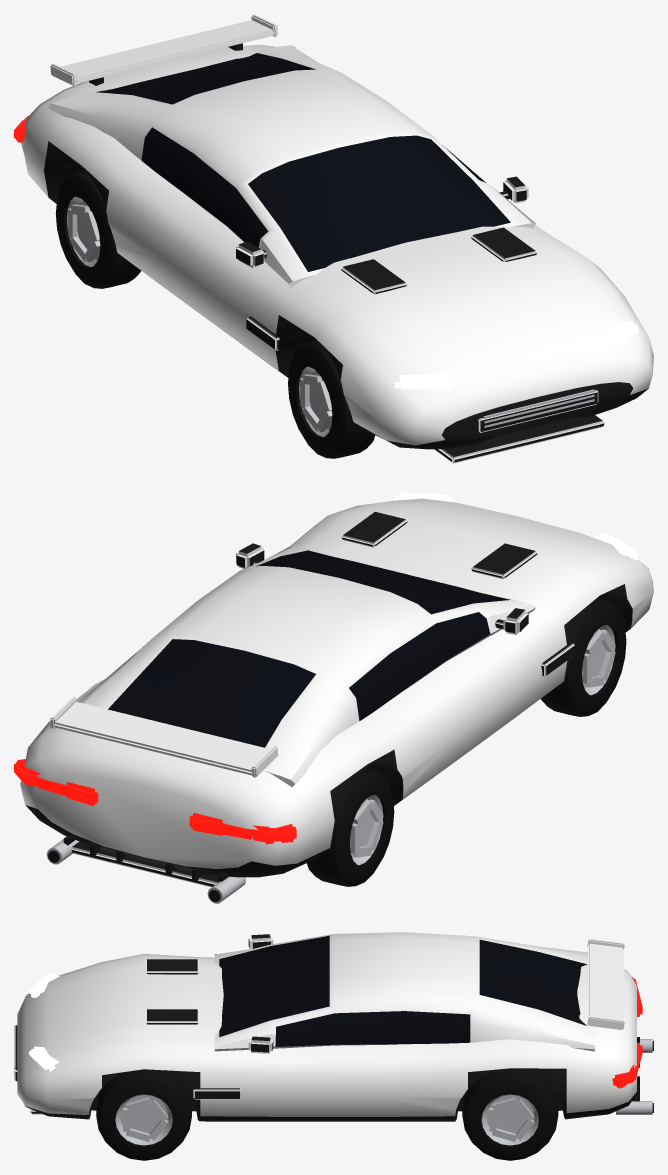
The model's file is car_coupe.glb.
3 renders of one model, top to bottom at view 1: azimuth 30°, elevation 25°; view 2: azimuth 150°, elevation 25°; view 3: azimuth 270°, elevation 25°, orthographic. The views are drawn at different scales.
Parts seen in each view (by area): view 1: Body, Spin (×2), Headlights; view 2: Body, Spin (×2), Taillights, Headlights; view 3: Body, Spin (×2), Headlights, Taillights.
Part boxes in pixels (bbox=[...]): Body: bbox=[21, 14, 653, 463]; Spin (×2): bbox=[55, 170, 375, 458]; Headlights: bbox=[394, 320, 638, 391]; Body: bbox=[20, 498, 653, 903]; Spin (×2): bbox=[307, 598, 626, 886]; Taillights: bbox=[14, 759, 296, 844]; Headlights: bbox=[394, 492, 638, 560]; Body: bbox=[14, 932, 653, 1121]; Spin (×2): bbox=[96, 1070, 558, 1160]; Headlights: bbox=[29, 972, 59, 1071]; Taillights: bbox=[612, 977, 642, 1088].
Size of the model in its own units: 1.94 by 1.2 by 4.54.
